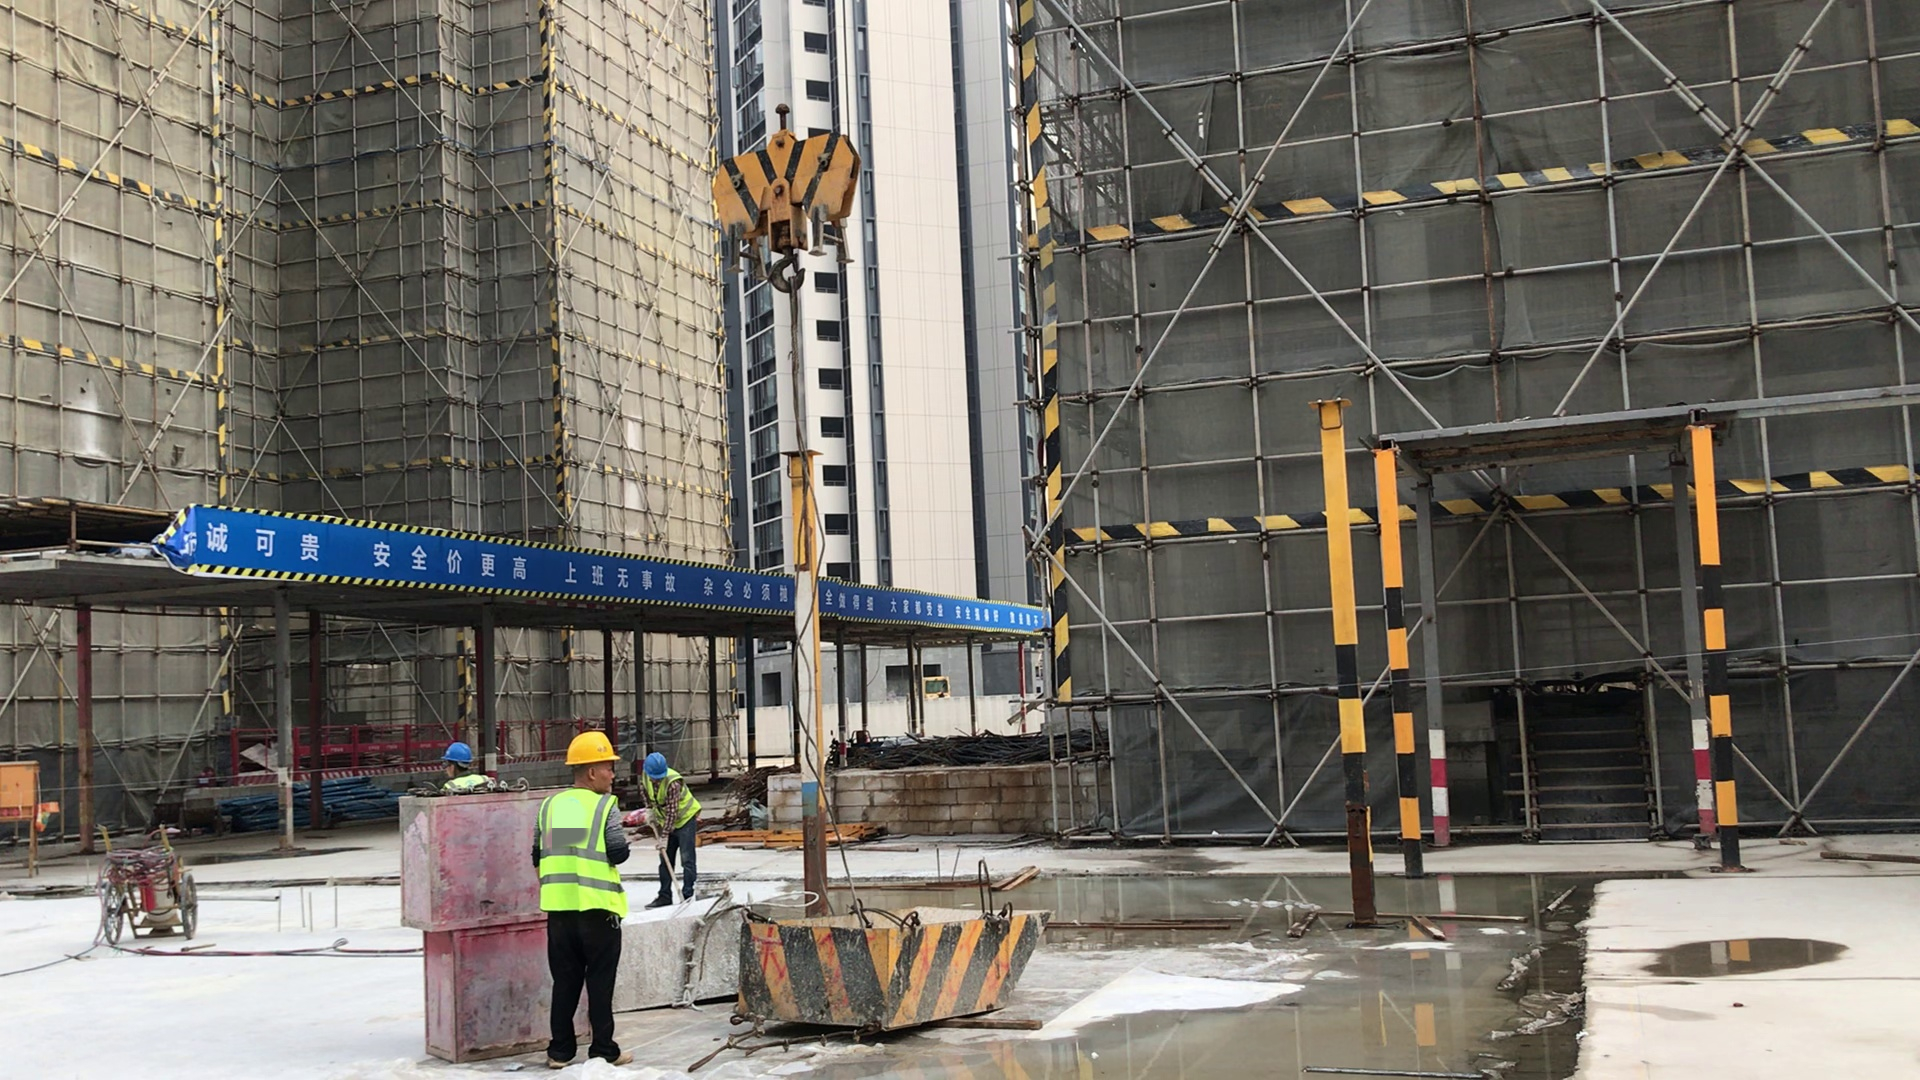ebox: (1, 763, 55, 835)
fence: (223, 704, 654, 789)
handcart: (88, 826, 206, 945)
helmet: (559, 734, 611, 768), (633, 737, 669, 768), (441, 738, 467, 758)
hook: (692, 93, 849, 287)
hopper: (722, 887, 1054, 1057), (610, 898, 766, 1011)
person: (538, 716, 643, 1071), (633, 739, 711, 913), (432, 724, 488, 805)
slogan: (156, 454, 1133, 671)
vest: (544, 778, 621, 924), (644, 780, 697, 827)
